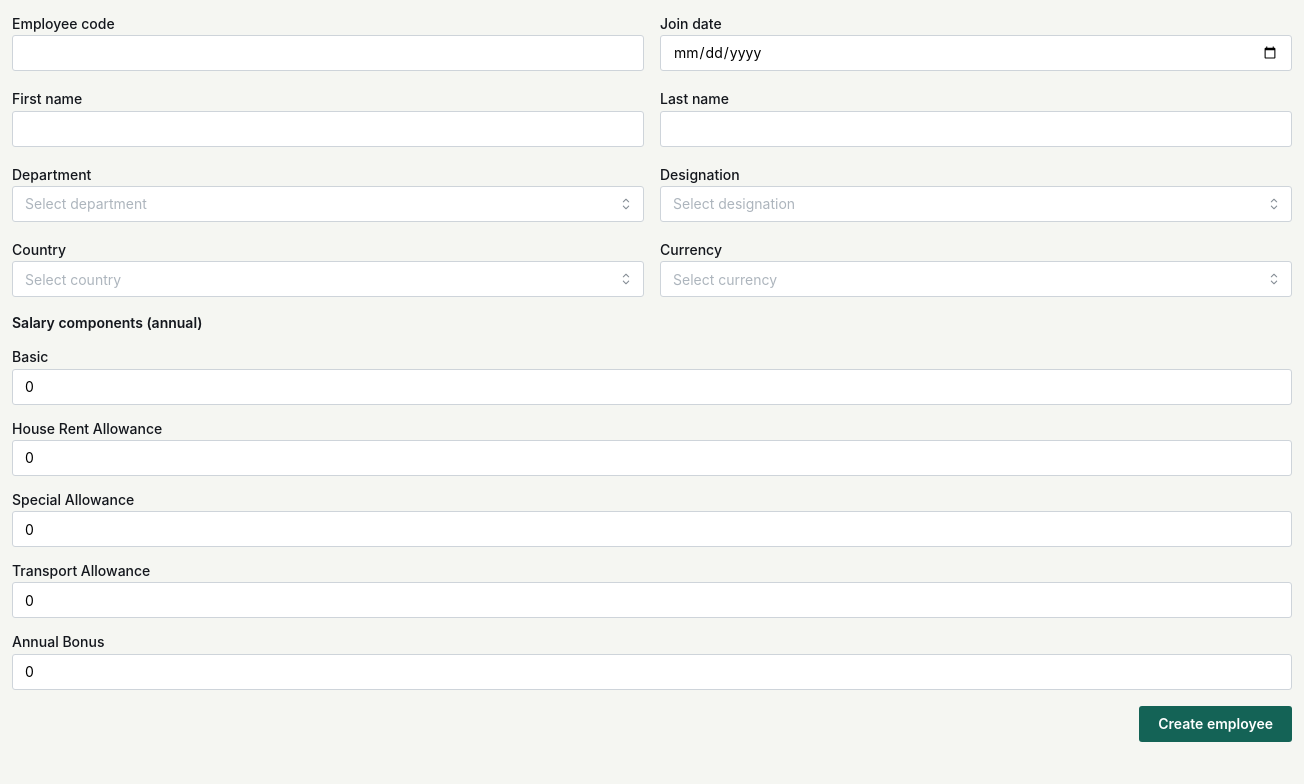
Test: EmployeeForm (create mode) › blocks submit and shows a validation error when a required field is left blank
Click the button "Create employee": (1216,724) [1139,706,1292,742]
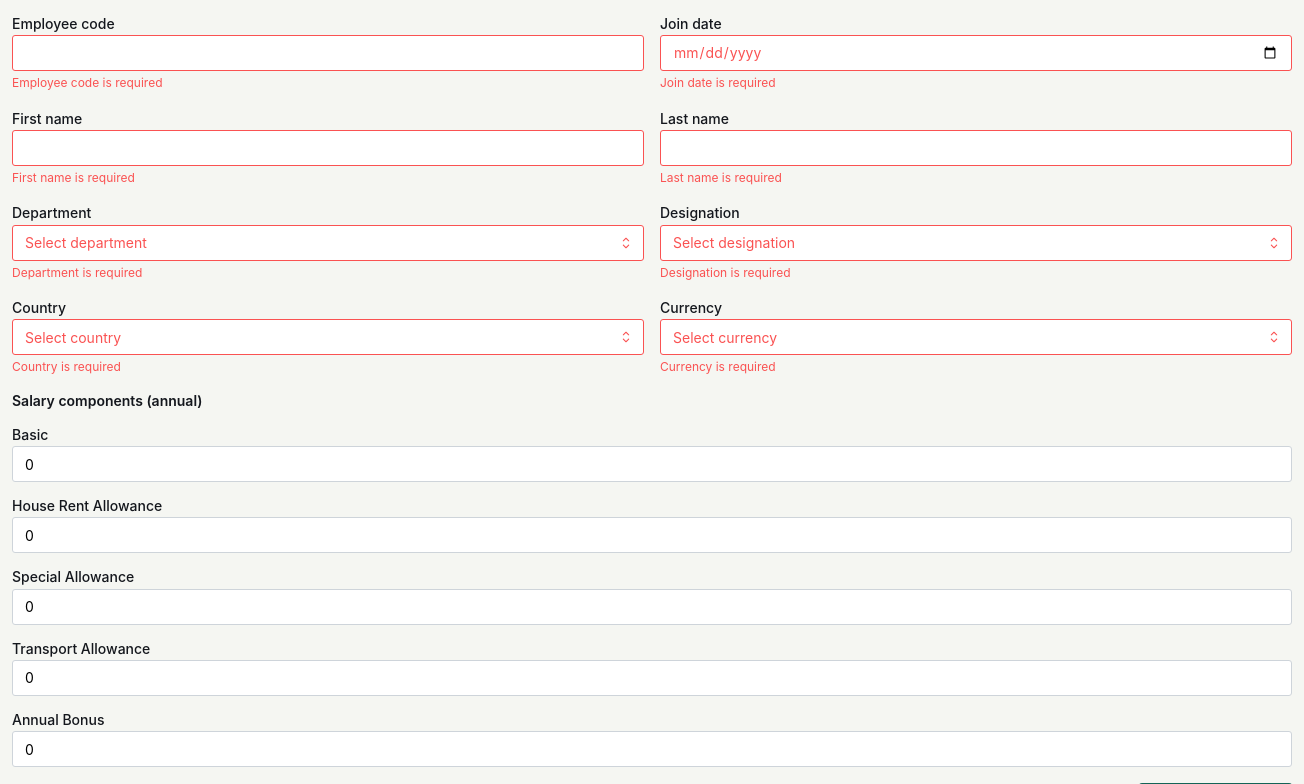
Check: the text "Employee code is required" is shown, box [12,75,162,90]
